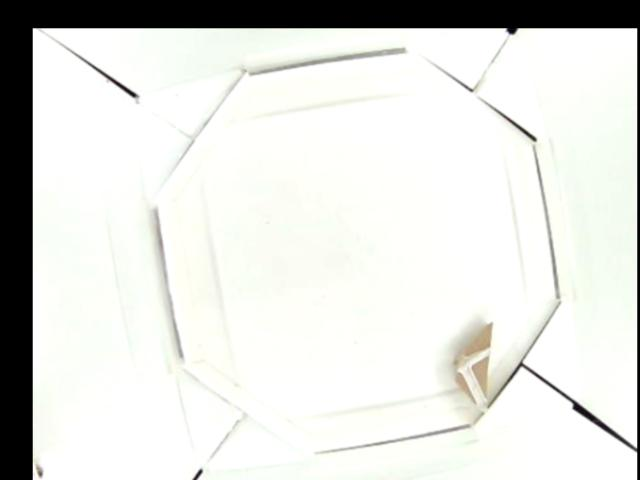China: (453, 321, 493, 409)
